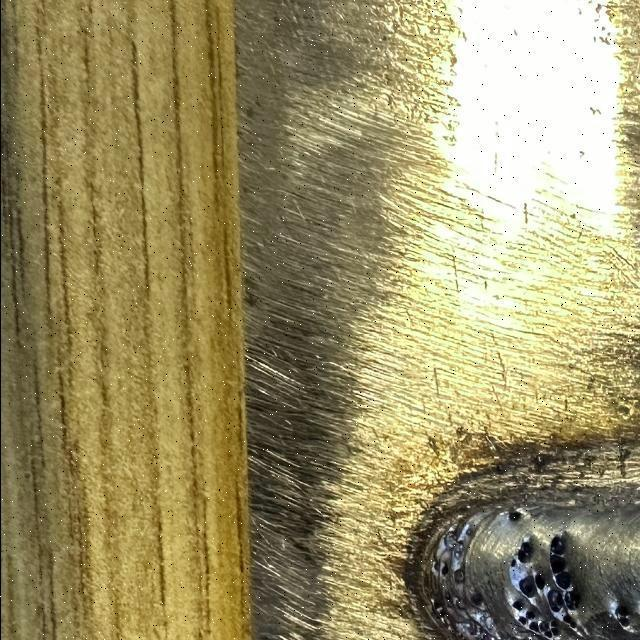Porosity: (509, 534, 579, 638), (545, 535, 571, 625), (510, 598, 560, 638), (518, 575, 544, 598), (430, 598, 448, 628), (510, 542, 531, 566), (614, 607, 629, 628), (452, 540, 462, 563), (470, 593, 484, 608), (452, 568, 464, 585), (507, 510, 521, 523), (440, 562, 449, 575), (465, 527, 472, 537)
Spatters: (464, 503, 472, 510)
